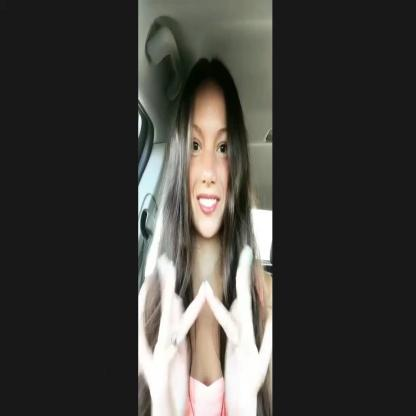Internet: (143, 247, 272, 416)
